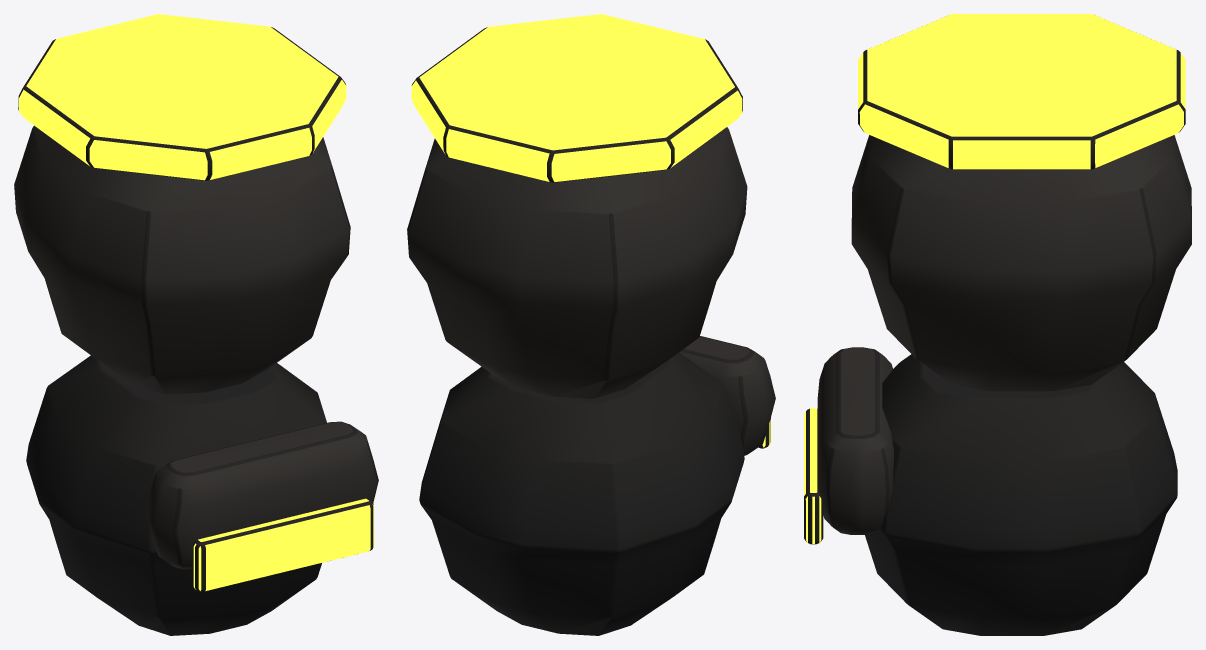
File: Arma_PunhosMagma_L.fbx
3 renders of one model, left to right at view 1: azimuth 30°, elevation 25°; view 2: azimuth 150°, elevation 25°; view 3: azimuth 270°, elevation 25°, orthographic. The views are drawn at different scales.
Visible parts, largest first — view 1: Piece; view 2: Piece; view 3: Piece.
Boxes of the visible parts, left/top/right/bottom form: Piece: left=14, top=14, right=378, bottom=635; Piece: left=407, top=14, right=775, bottom=635; Piece: left=804, top=14, right=1191, bottom=635.
Bounding box in the file's own units: 0.1654 × 0.3035 × 0.2012.
